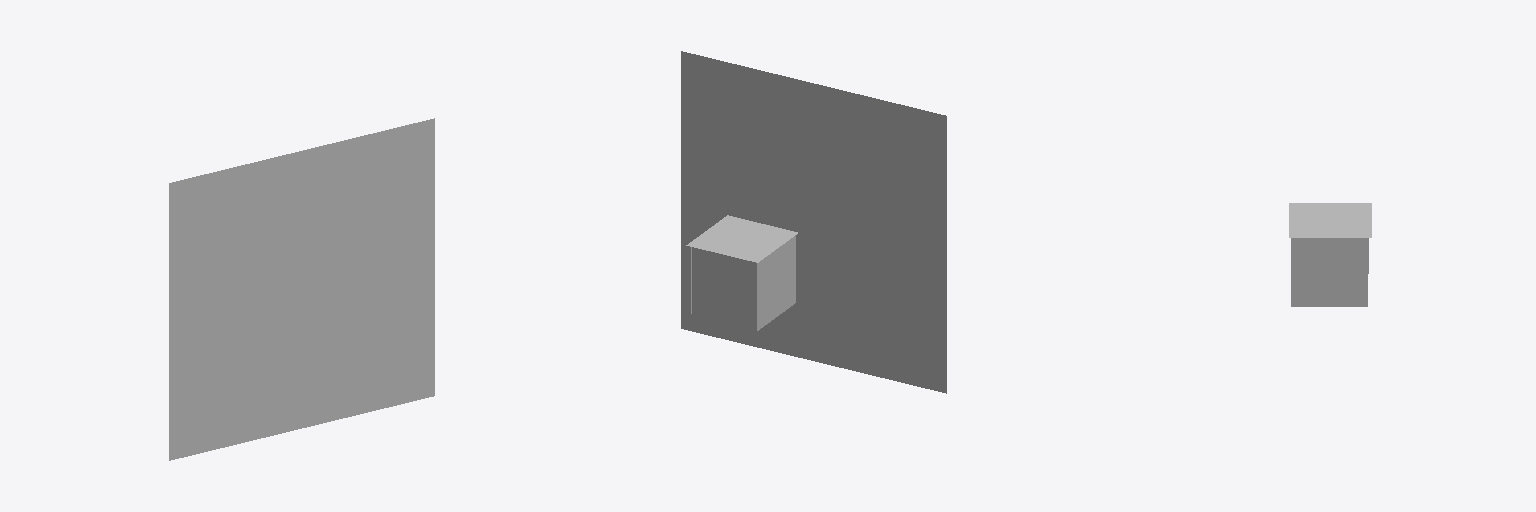
File: multiple_monkey_scene.obj
3 renders of one model, left to right at view 1: azimuth 30°, elevation 25°; view 2: azimuth 150°, elevation 25°; view 3: azimuth 270°, elevation 25°, orthographic.
Parts seen in each view (by area): view 1: Plane.007; view 2: Plane.007, Plane.003, Plane.006, Plane.005; view 3: Plane.004, Plane.006.
Part boxes in pixels (left/top/right/bottom): Plane.007: left=169, top=118, right=434, bottom=460; Plane.007: left=681, top=51, right=946, bottom=393; Plane.003: left=692, top=247, right=756, bottom=329; Plane.006: left=686, top=215, right=797, bottom=262; Plane.005: left=757, top=235, right=795, bottom=330; Plane.004: left=1291, top=238, right=1367, bottom=306; Plane.006: left=1289, top=203, right=1371, bottom=237.
Size of the model in its own units: 20 by 20 by 12.